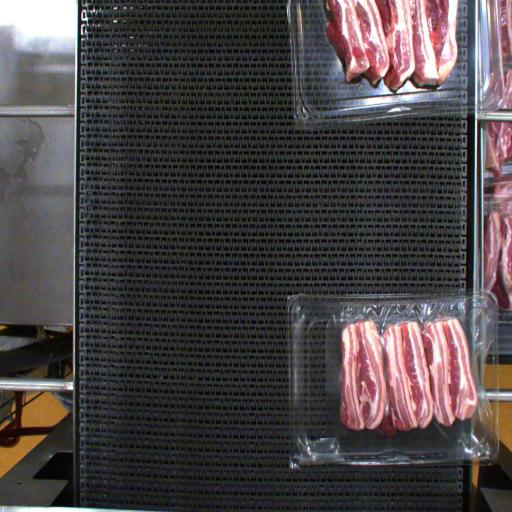unsealed: (319, 298, 493, 400)
